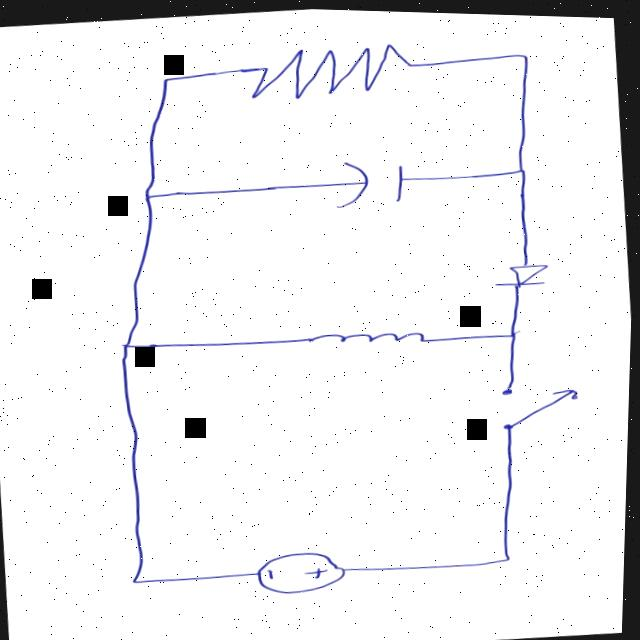capacitor: (323, 144, 442, 225)
diode: (469, 245, 571, 301)
inductor: (284, 306, 446, 368)
resistor: (227, 29, 438, 120)
source: (235, 534, 378, 607)
switch: (459, 355, 595, 445)
